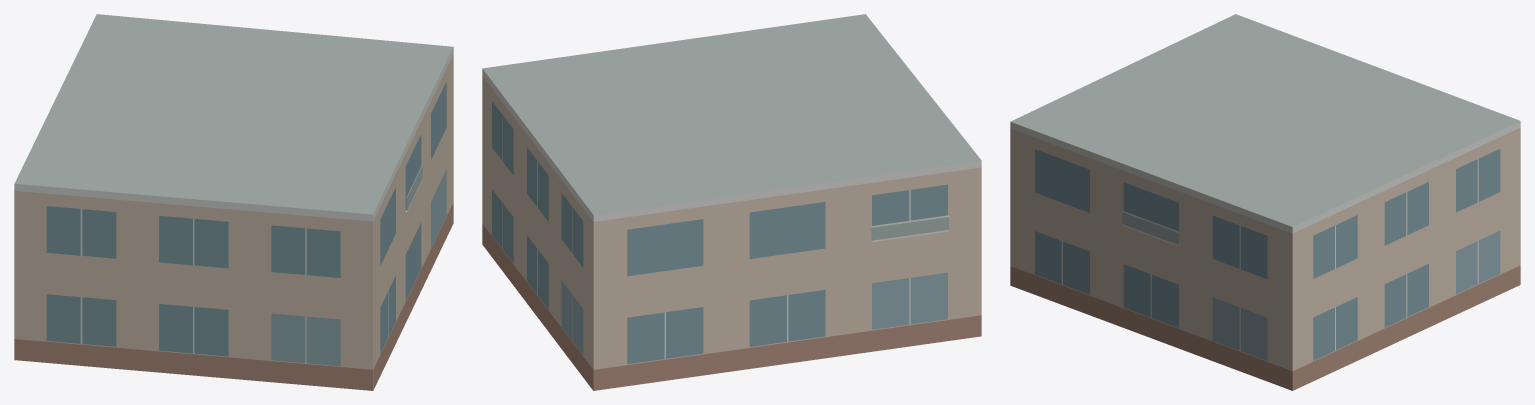
The model's file is survey-upis-32890369.glb.
The picture shows the model from 3 angles, left to right: view 1: azimuth 30°, elevation 25°; view 2: azimuth 150°, elevation 25°; view 3: azimuth 270°, elevation 25°; orthographic projection. The views are drawn at different scales.
Parts seen in each view (by area): view 1: survey-upis-32890369.tmp; view 2: survey-upis-32890369.tmp; view 3: survey-upis-32890369.tmp.
Part boxes in pixels (bbox=[...]): survey-upis-32890369.tmp: bbox=[14, 14, 453, 390]; survey-upis-32890369.tmp: bbox=[482, 14, 981, 390]; survey-upis-32890369.tmp: bbox=[1010, 14, 1520, 390].
Size of the model in its own units: 17.02 by 6.1 by 17.23.
